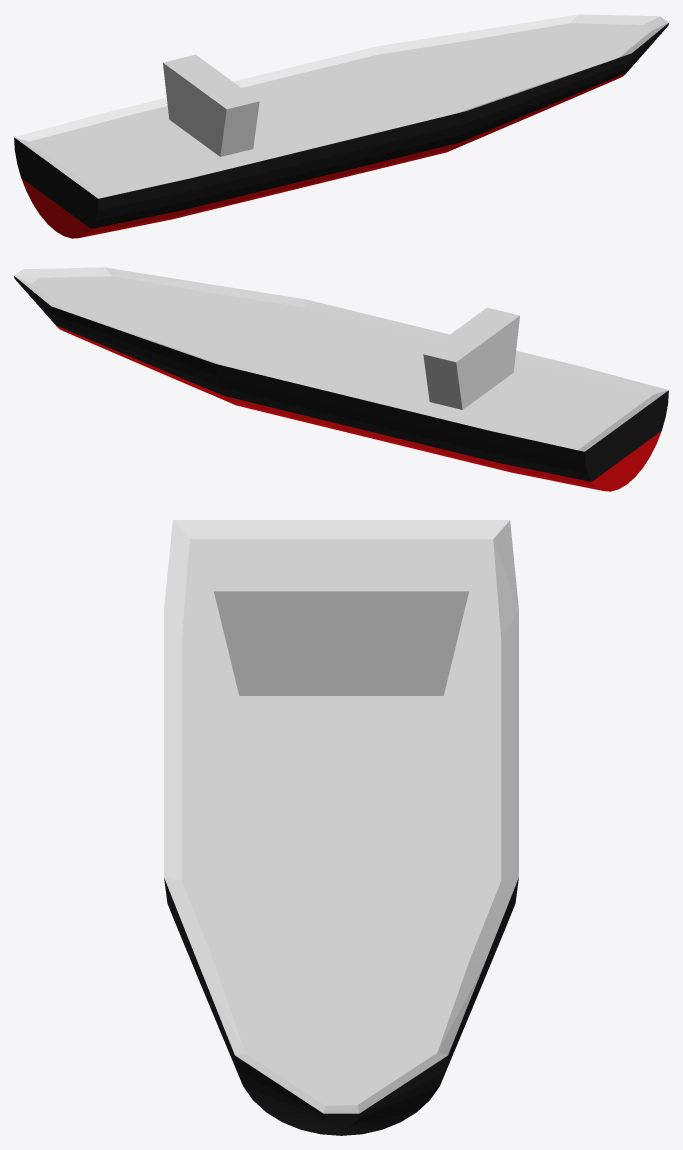
File: boat.gltf
The picture shows the model from 3 angles, top to bottom: view 1: azimuth 30°, elevation 25°; view 2: azimuth 150°, elevation 25°; view 3: azimuth 270°, elevation 25°; orthographic projection. The views are drawn at different scales.
Visible parts, largest first — view 1: Boat; view 2: Boat; view 3: Boat.
Part boxes in pixels (x1=…): Boat: x1=14, y1=14, x2=668, y2=238; Boat: x1=14, y1=267, x2=668, y2=491; Boat: x1=164, y1=520, x2=518, y2=1135.
Size of the model in its own units: 60.8 by 11 by 15.36.
